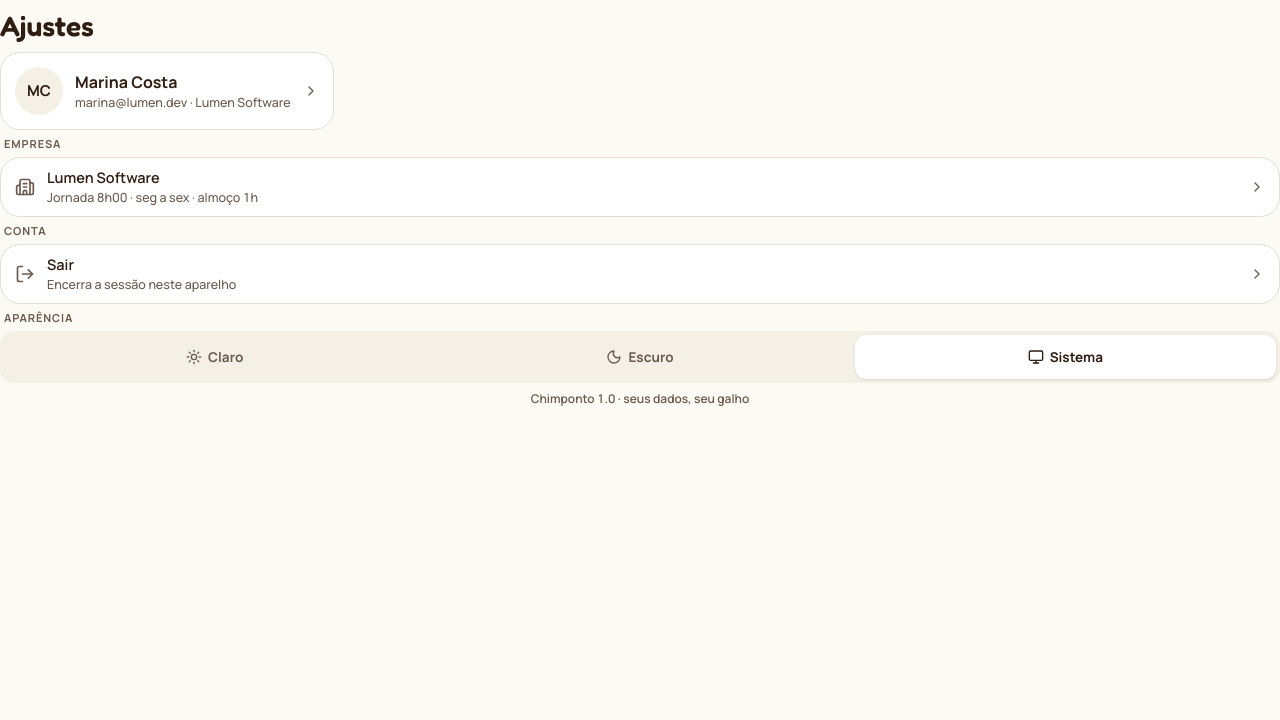
Test: <SettingsScreen> › edits the display name and the avatar follows it
Click the button "MC Marina Costa marina@lumen.dev · Lumen Software". click: (167, 91)
box: [0, 52, 334, 130]
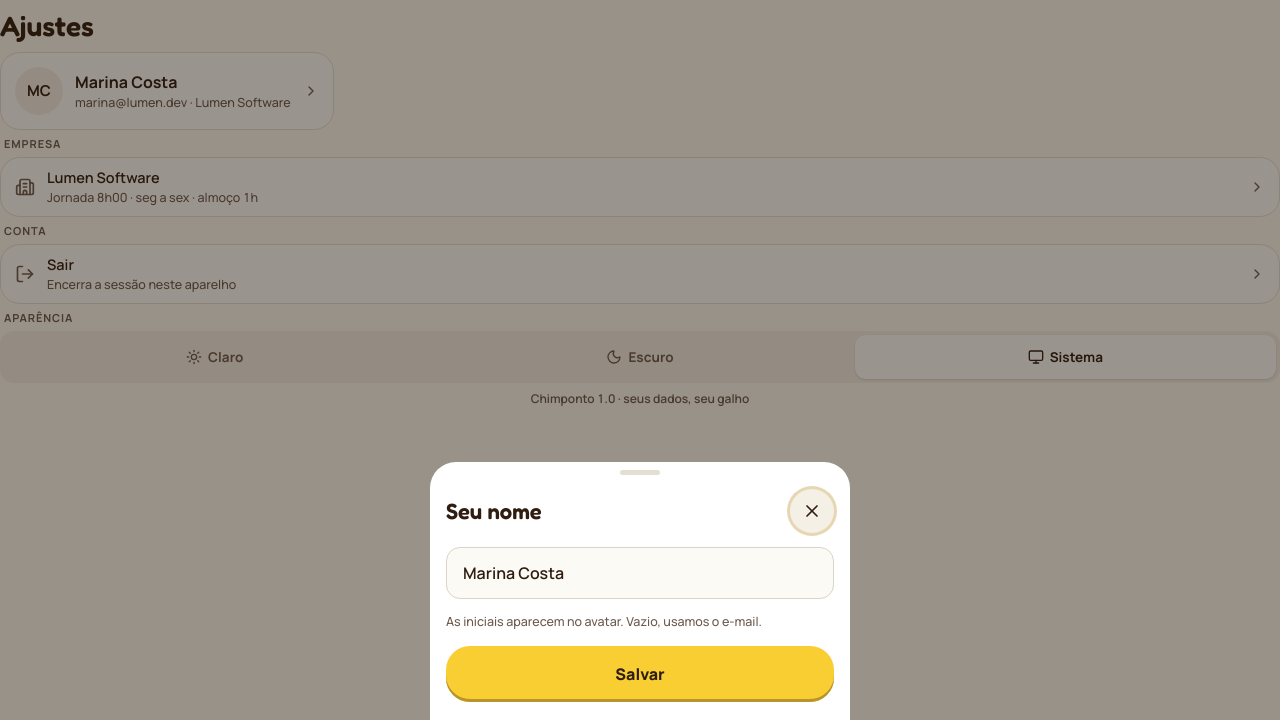
Expected: the field named "Nome de exibição" holds "Marina Costa"
Replace the text in the field named "Nome de exibição" with "Ana Lima". click: (640, 573)
box: [446, 547, 834, 599]
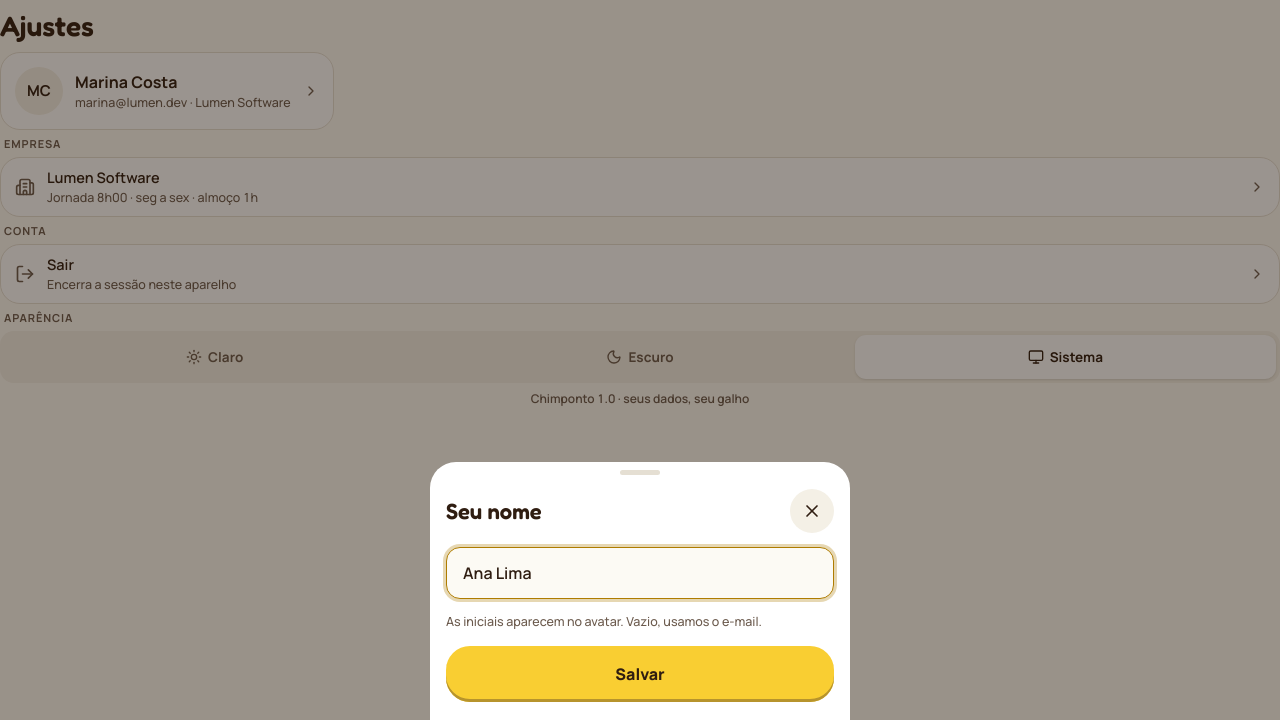
Click the button "Salvar". click: (640, 674)
box: [446, 646, 834, 702]
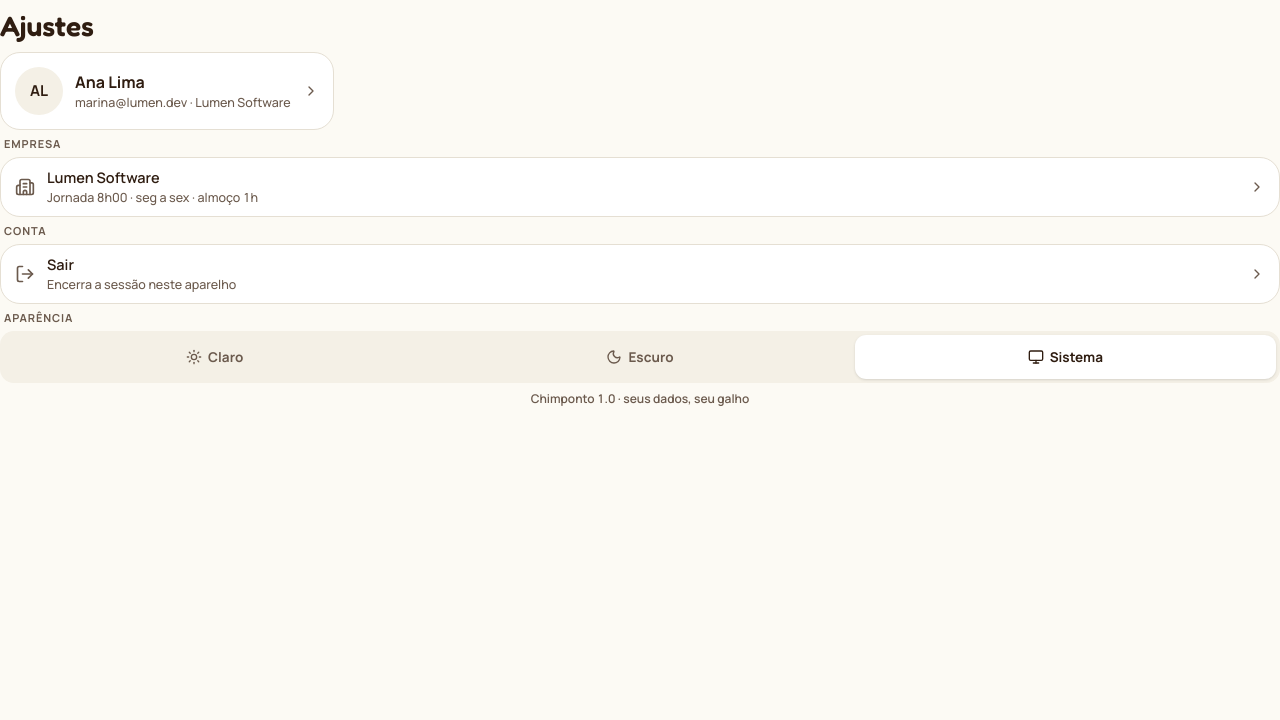
Expected: the picture named "Ana Lima" reads "AL", [30, 80, 48, 101]
